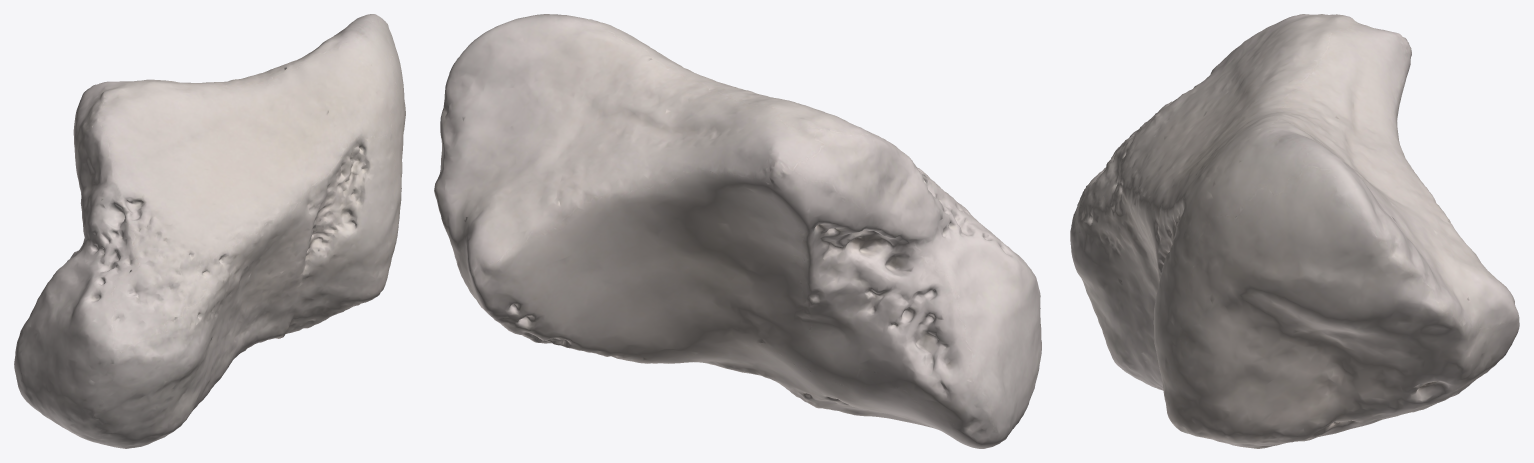
3 views of the same model, side by side, from view 1: azimuth 30°, elevation 25°; view 2: azimuth 150°, elevation 25°; view 3: azimuth 270°, elevation 25° (orthographic). The views are drawn at different scales.
Parts seen in each view (by area): view 1: Os carpi ulnare_Hund _re.001; view 2: Os carpi ulnare_Hund _re.001; view 3: Os carpi ulnare_Hund _re.001.
Part boxes in pixels (x1,y1,x2,y2): Os carpi ulnare_Hund _re.001: (14, 14, 405, 448); Os carpi ulnare_Hund _re.001: (434, 14, 1041, 448); Os carpi ulnare_Hund _re.001: (1070, 14, 1519, 448).
Size of the model in its own units: 1763 by 1273 by 1256.
Materials: 1 (1 with a texture image).
